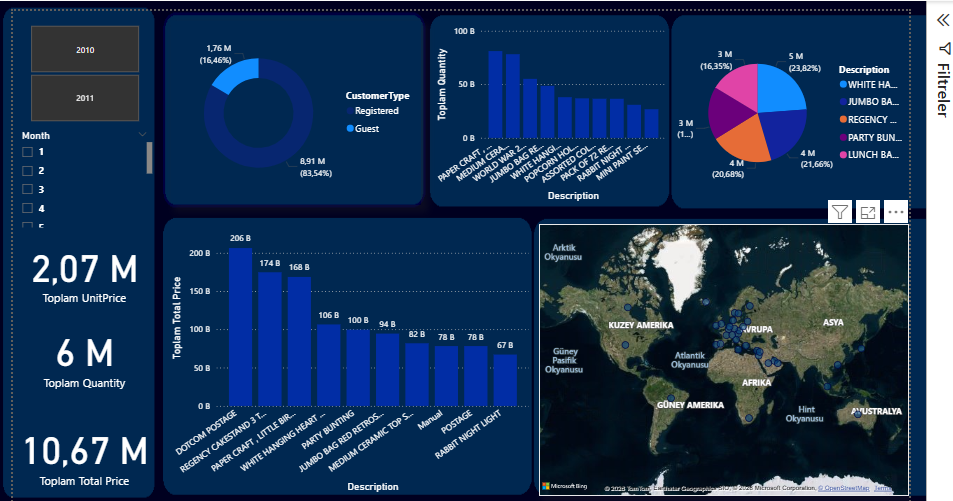

Layout of this report page (visuals, bound fields, positions):
{"tool":"powerbi","page":{"name":"1. sayfa","canvas":[1280,720],"ordinal":0},"visuals":[{"type":"card","fields":{"Values":["Sum(orders.Total Price)"]},"box":[0,561.4,204.3,141.4],"z":0},{"type":"map","fields":{"Category":["orders.Country"]},"box":[751.4,304.3,528.6,388.6],"z":1},{"type":"slicer","fields":{"Values":["orders.Year"]},"box":[0,14.3,204.3,150],"z":2},{"type":"slicer","fields":{"Values":["orders.Month"]},"box":[0,164.3,204.3,150],"z":3},{"type":"card","fields":{"Values":["Sum(orders.Quantity)"]},"box":[0,425.7,204.3,132.9],"z":4},{"type":"donutChart","fields":{"Category":["Sorgu2.CustomerType"],"Y":["Sum(Sorgu2.toplamgelir)"]},"box":[225.7,14.3,357.1,262.9],"z":5},{"type":"columnChart","fields":{"Y":["Sum(orders.Total Price)"],"Category":["orders.Description"]},"box":[225.7,298.6,511.4,388.6],"z":6},{"type":"columnChart","fields":{"Y":["Sum(orders.Quantity)"],"Category":["orders.Description"]},"box":[598.6,14.3,338.6,262.9],"z":7},{"type":"card","fields":{"Values":["Sum(orders.UnitPrice)"]},"box":[0,298.6,204.3,145.7],"z":8},{"type":"pieChart","fields":{"Y":["Sum(orders.Year)"],"Category":["orders.Description"]},"box":[947.1,14.3,332.9,262.9],"z":9}]}

Visuals, with their boxes on the page's 1280x720 design canvas (x1, y1, x2, y2). These are canvas units, not pixel positions in the 953x501 screenshot, which may show the page scaled, cropped or inside an application window:
card - Sum(orders.Total Price): 0,561,204,703
map - orders.Country: 751,304,1280,693
slicer - orders.Year: 0,14,204,164
slicer - orders.Month: 0,164,204,314
card - Sum(orders.Quantity): 0,426,204,559
donutChart - Sorgu2.CustomerType x Sum(Sorgu2.toplamgelir): 226,14,583,277
columnChart - Sum(orders.Total Price) x orders.Description: 226,299,737,687
columnChart - Sum(orders.Quantity) x orders.Description: 599,14,937,277
card - Sum(orders.UnitPrice): 0,299,204,444
pieChart - Sum(orders.Year) x orders.Description: 947,14,1280,277
